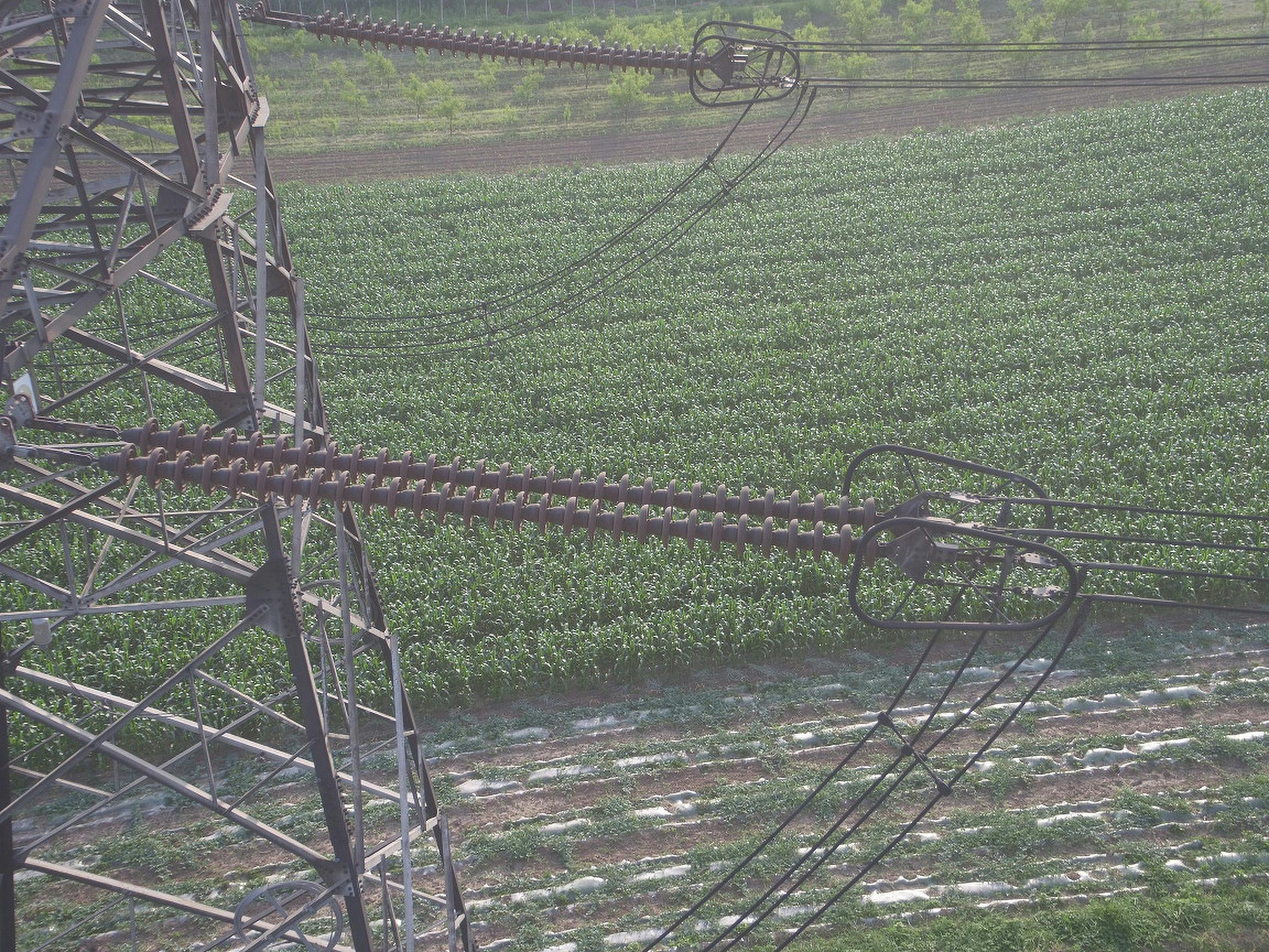insulator: (112, 414, 886, 572), (312, 7, 709, 79)
